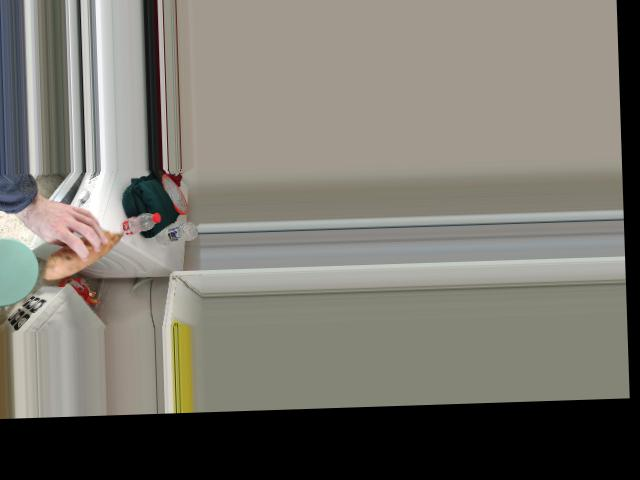sweet_potato: (55, 217, 119, 277)
